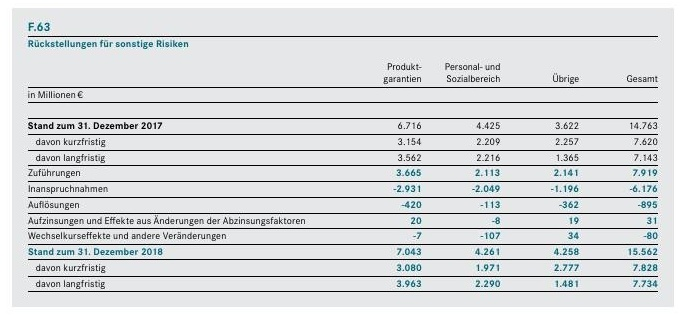table: (0, 0, 684, 319)
